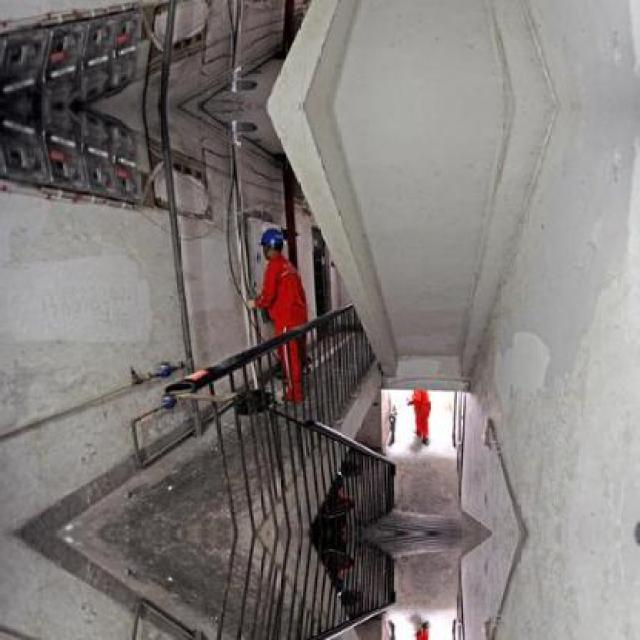helmet: (252, 222, 286, 258)
